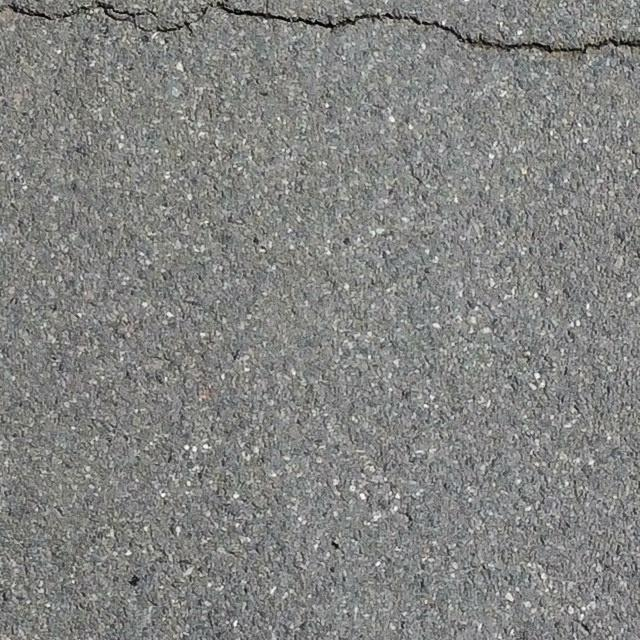TransverseCrack: (1, 1, 639, 53)
